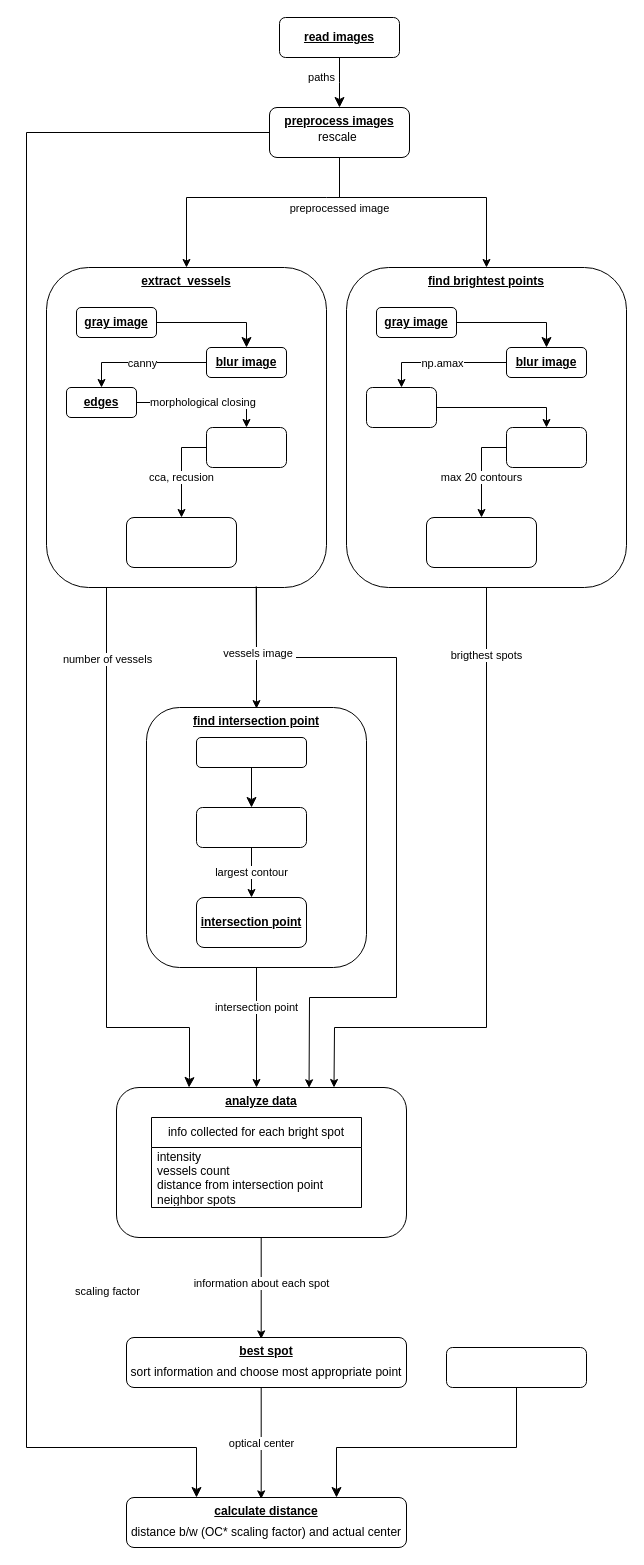
Some shapes in this 644 by 1565 pixel diagram are drawn without their labels. Each missing label, with the centre of its shape:
"brightest spots" belongs at point 481,542.
"closed vessel image" belongs at point 251,752.
"connected edges" belongs at point 246,447.
"eroded vessel image" belongs at point 251,827.
"filtered large connected edges" belongs at point 181,542.
"max intensity" belongs at point 401,407.
"read actual centers" belongs at point 516,1367.
"thresholded image" belongs at point 546,447.
